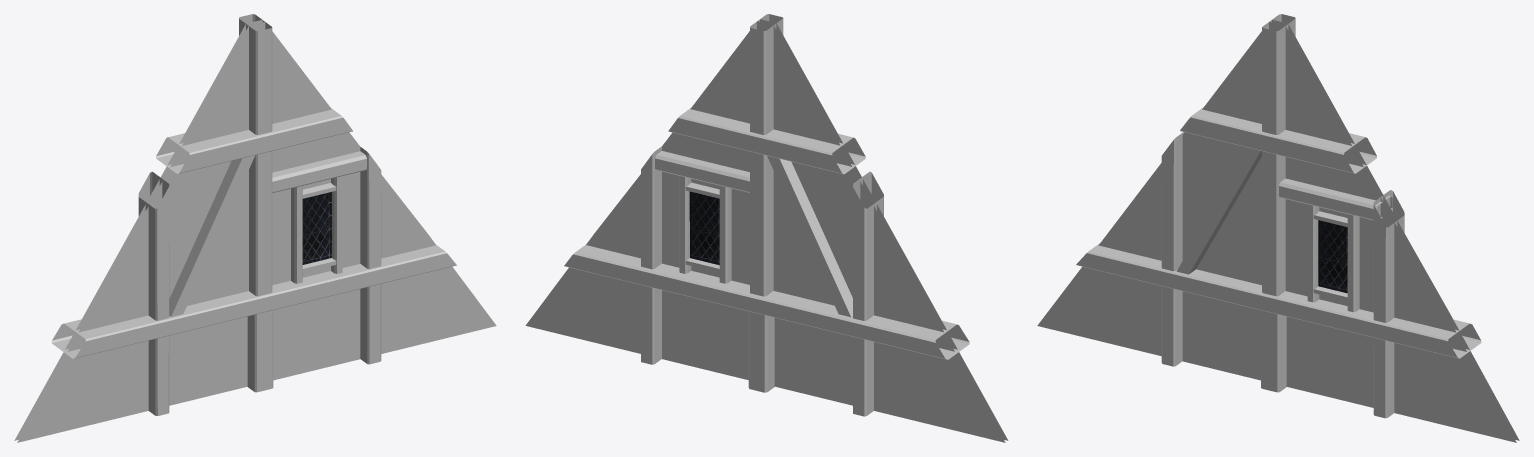
Rendered from Wall_Roof_OneWin_01.FBX.
3 views of the same model, side by side, from view 1: azimuth 30°, elevation 25°; view 2: azimuth 150°, elevation 25°; view 3: azimuth 330°, elevation 25° (orthographic).
Visible parts, largest first — view 1: Wall_Roof_OneWin_01; view 2: Wall_Roof_OneWin_01; view 3: Wall_Roof_OneWin_01.
Boxes of the visible parts, left/top/right/bottom form: Wall_Roof_OneWin_01: left=14, top=14, right=496, bottom=442; Wall_Roof_OneWin_01: left=525, top=14, right=1008, bottom=442; Wall_Roof_OneWin_01: left=1037, top=14, right=1519, bottom=442.
Size of the model in its own units: 295 by 212 by 25.33.
